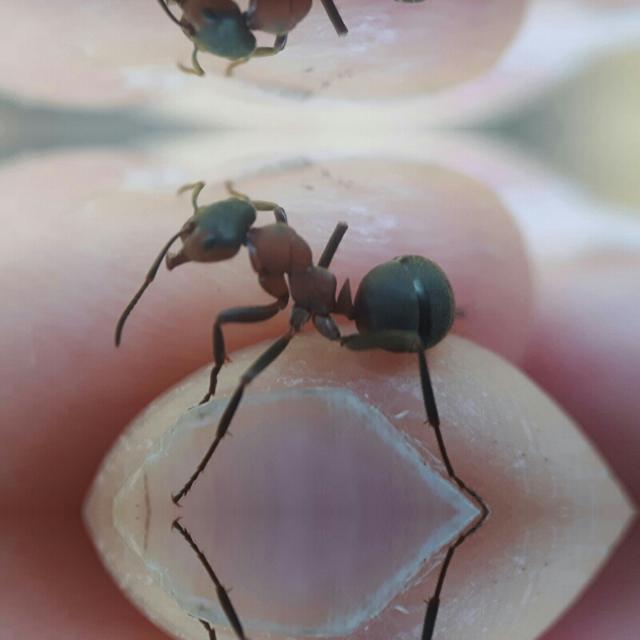Formica: (130, 162, 480, 396), (128, 0, 478, 92)
